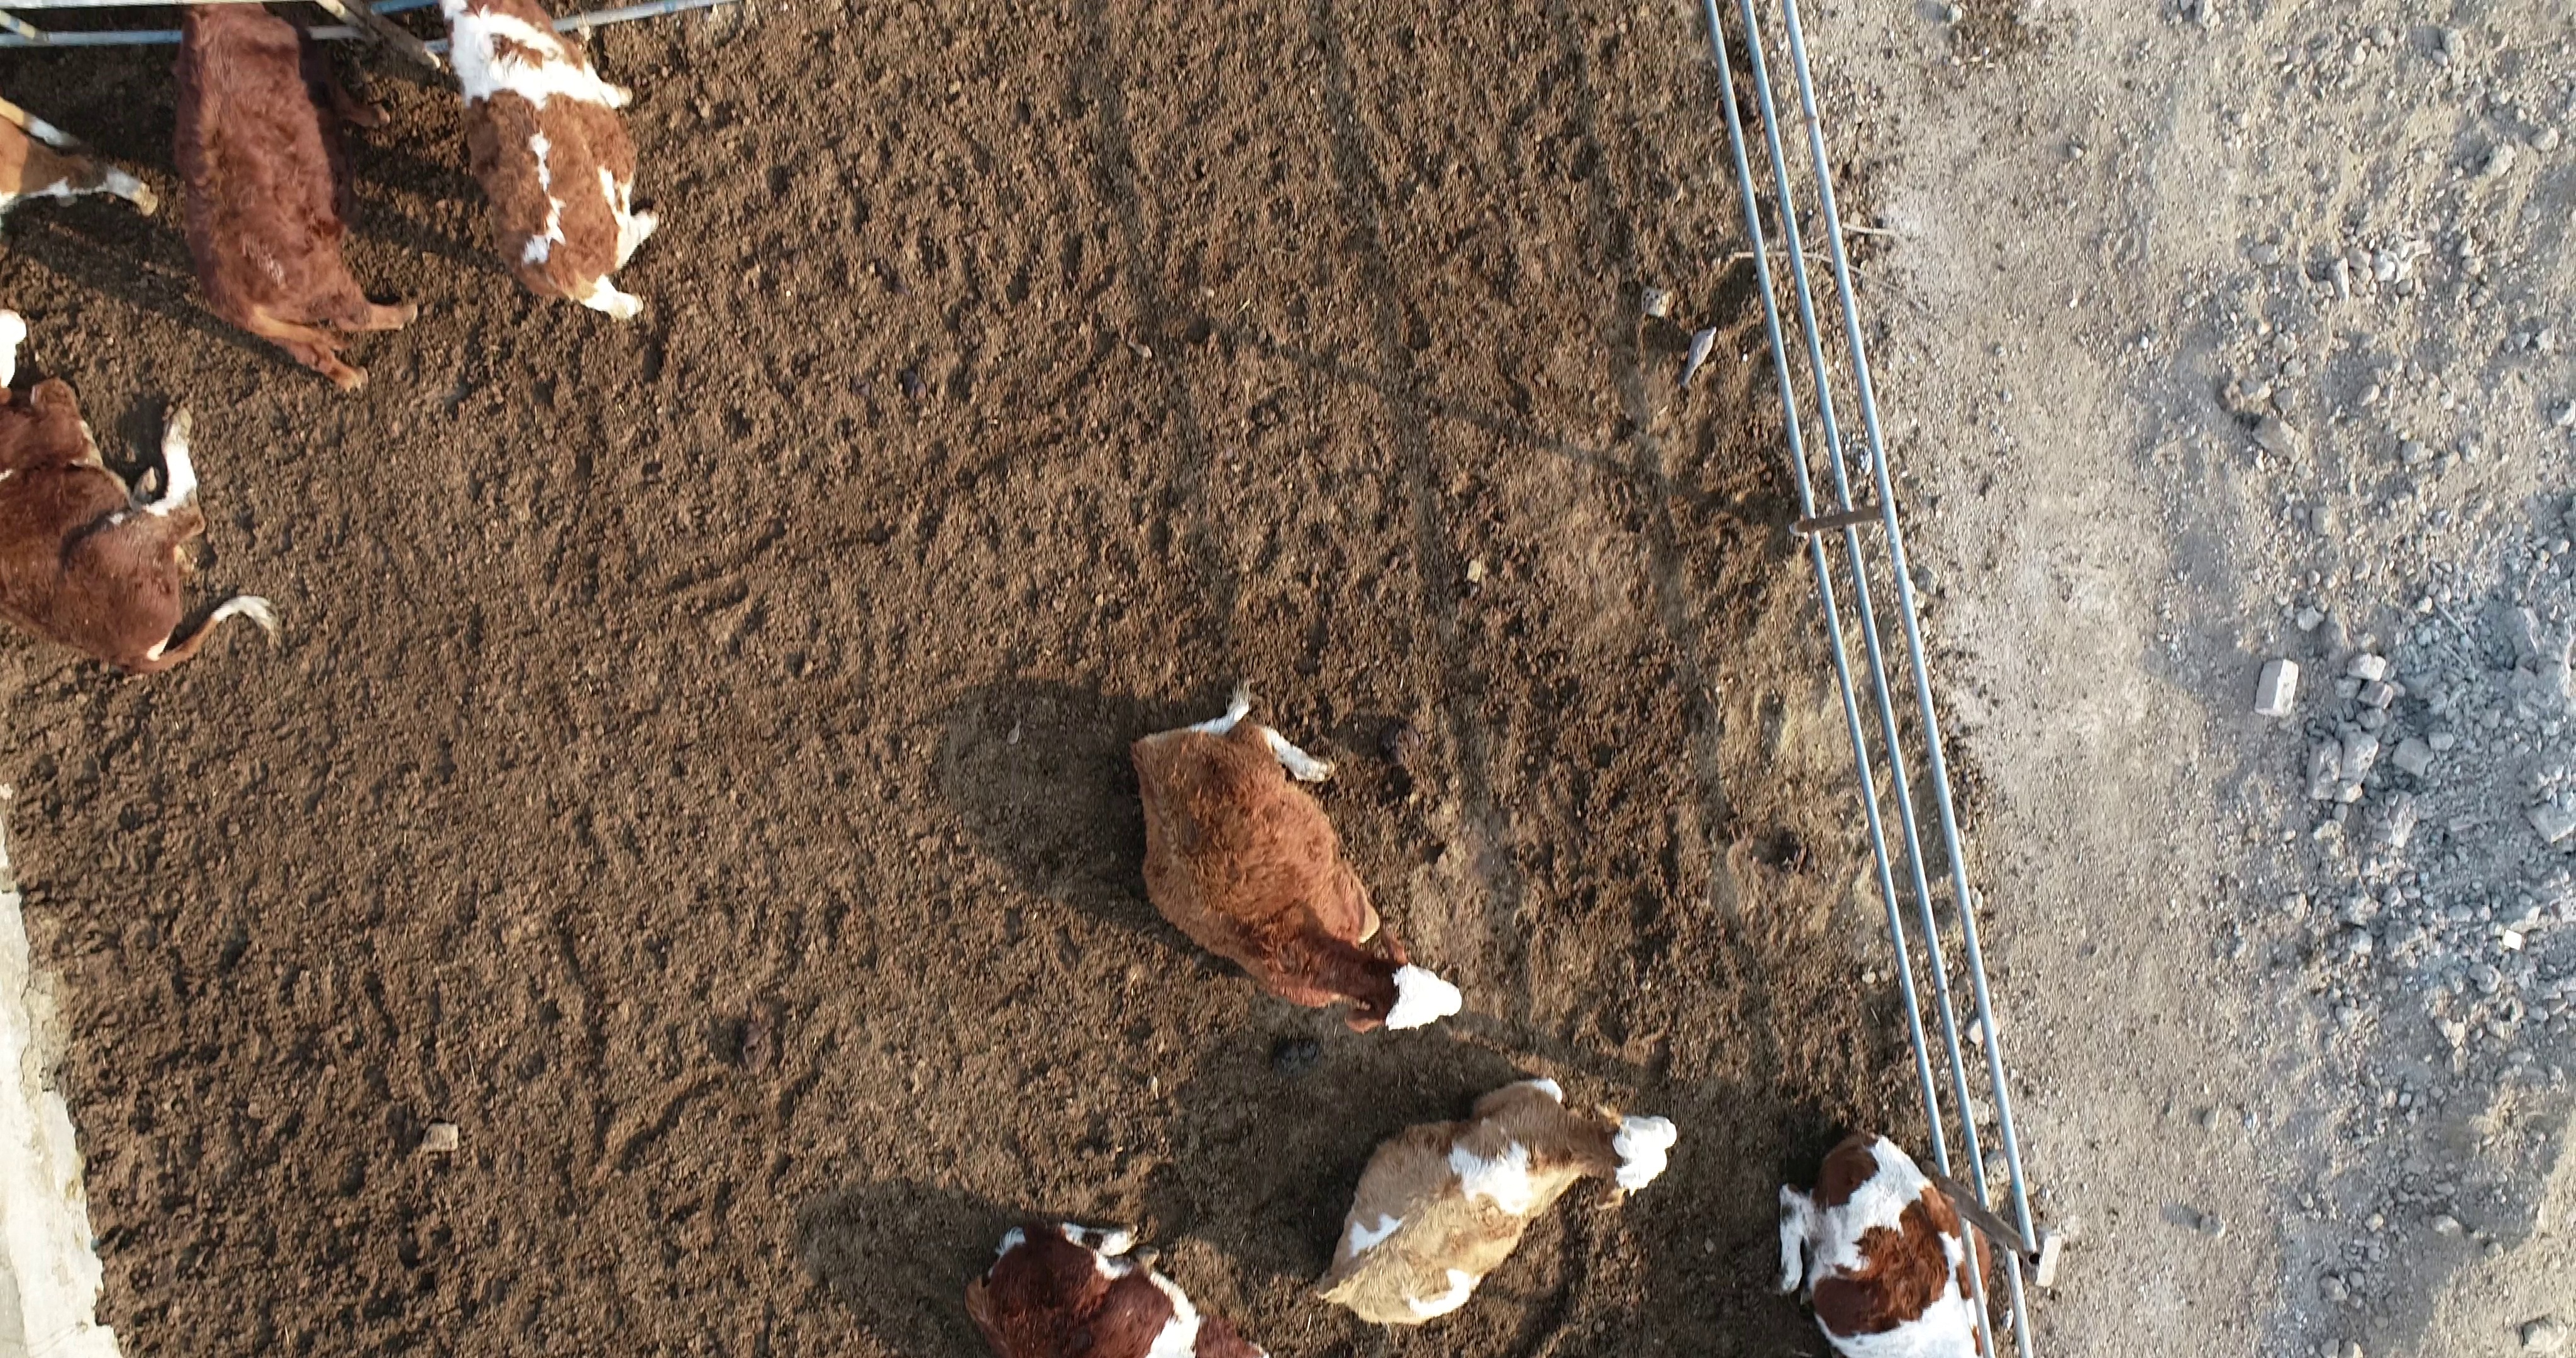cattle: (1119, 671, 1467, 1039), (1305, 1075, 1680, 1332)
